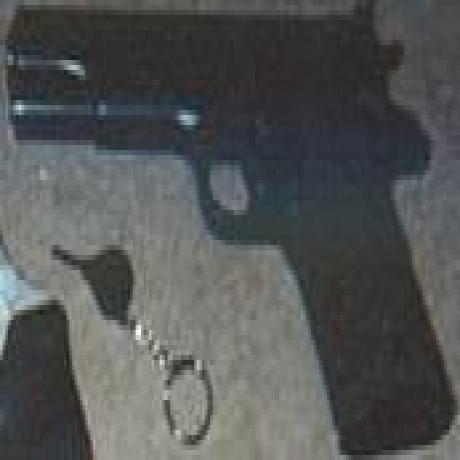weapon: (15, 4, 459, 445)
